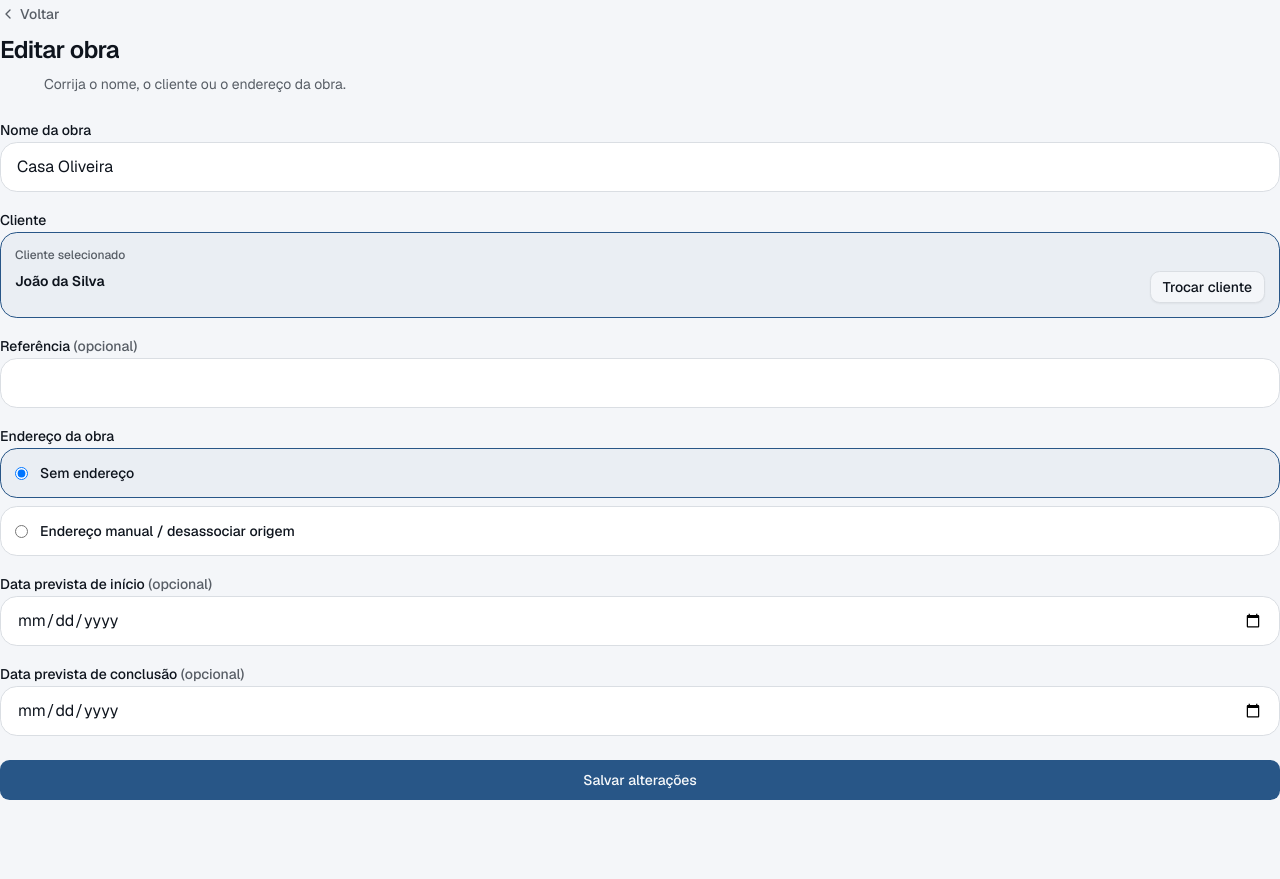
Test: ProjectEditForm › TE5: a conflict banner shown under Company A is absent in the SAME render that switches to Company B
Expected: the field labelled "Nome da obra" is shown, [0,142,1279,192]
Click the button "Salvar alterações". click: x=640, y=780
box: [0,760,1279,800]
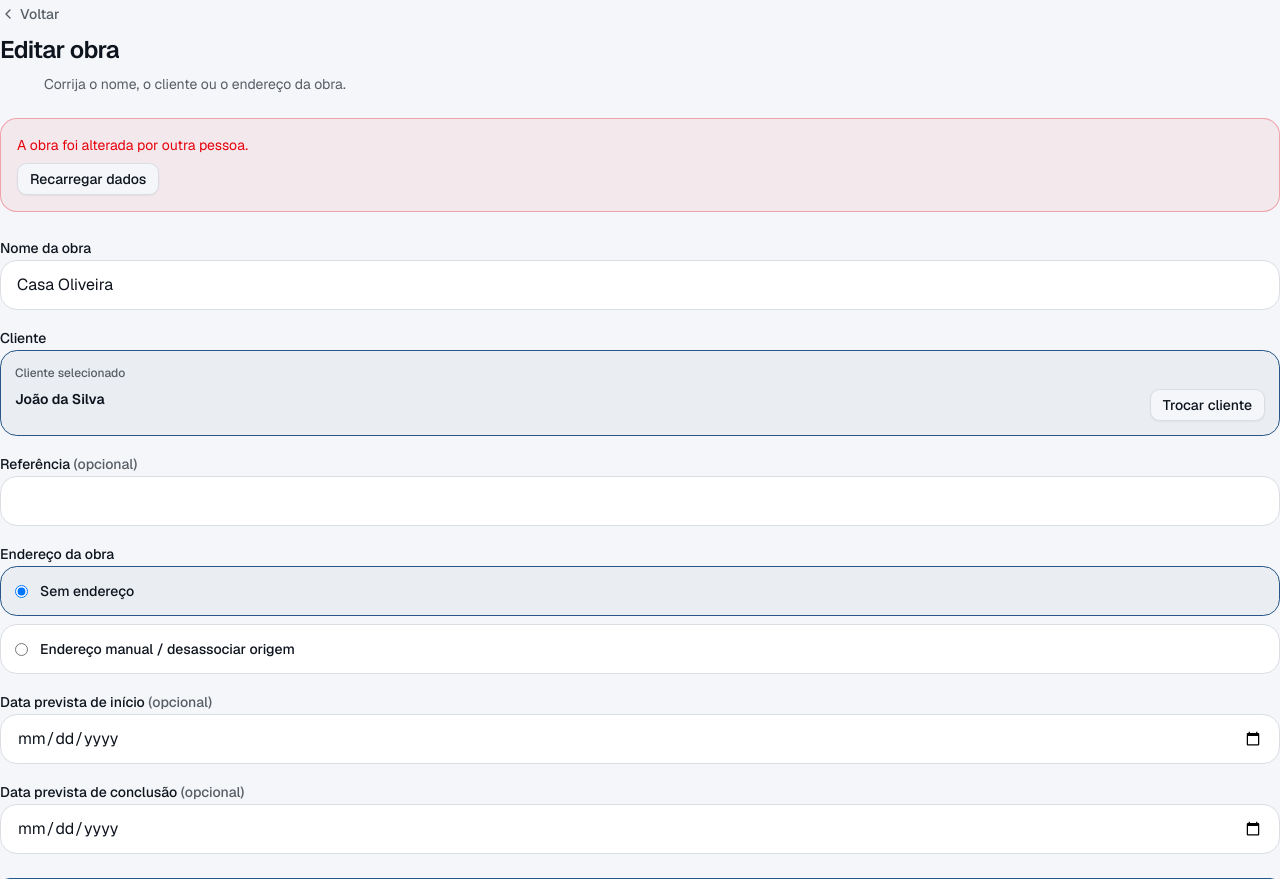
Expected: the text "A obra foi alterada por outra pessoa." is shown, [17,136,248,154]
